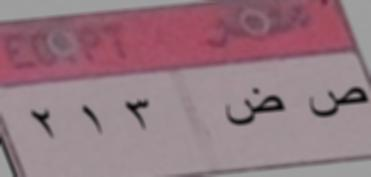1: (78, 100, 105, 140)
2: (26, 104, 58, 146)
3: (122, 94, 158, 141)
daad: (220, 84, 289, 137)
saad: (308, 81, 369, 125)
